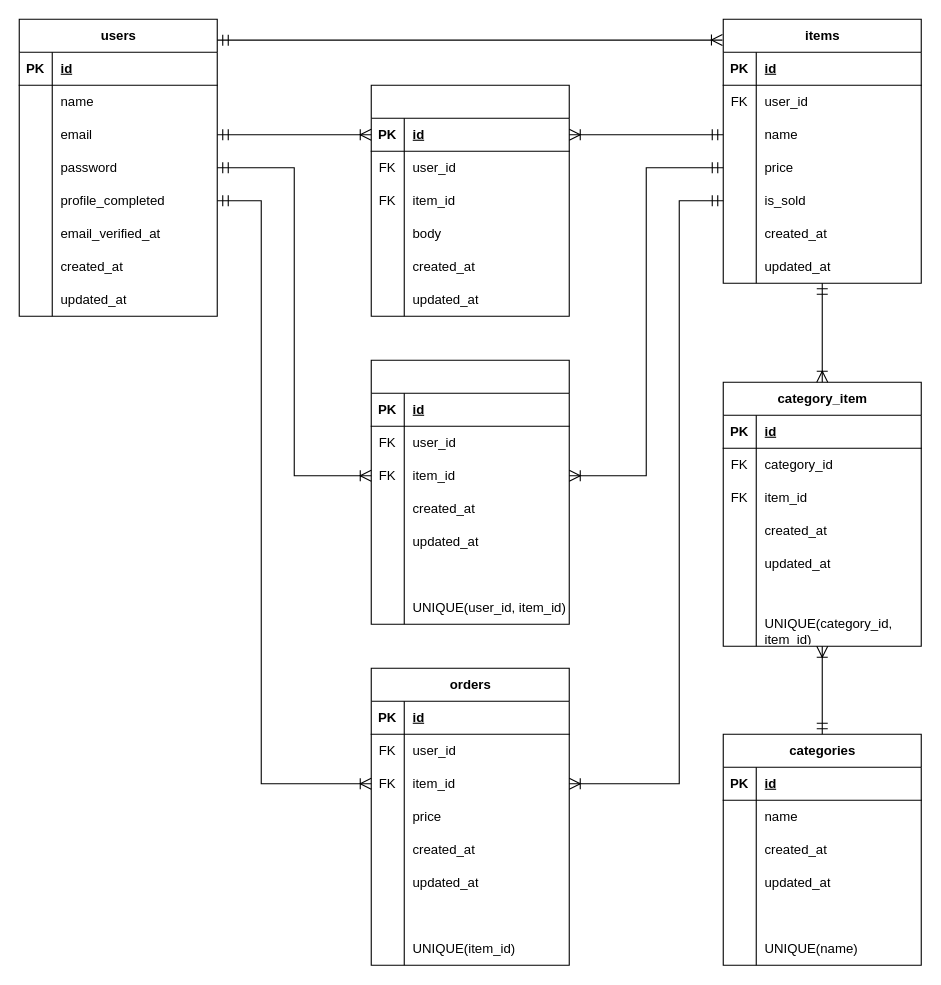
Some shapes in this 941 by 985 pixel diagram are drawn without their labels. The shapes that lost their labels are listed below. From the top down, each one's box as (x1, y1, x2, y2) in pixels, then its label:
(370, 84, 569, 316): comments
(370, 359, 569, 624): likes
